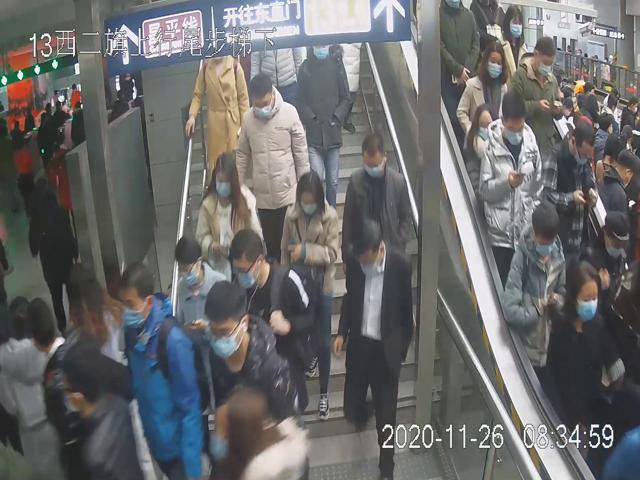person: (330, 210, 414, 480), (278, 170, 340, 421), (232, 73, 311, 260), (227, 226, 315, 386), (203, 277, 292, 426), (340, 131, 416, 279), (478, 89, 542, 258), (193, 152, 268, 280), (453, 38, 508, 152), (172, 237, 224, 343)
